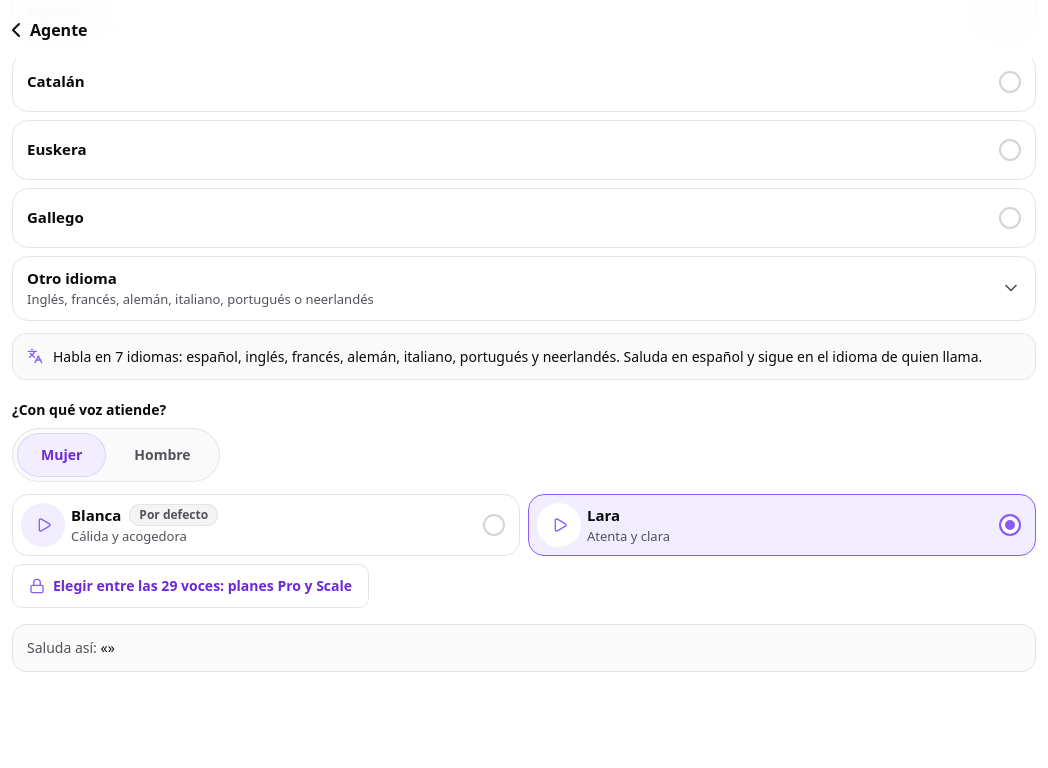
it: ComportamientoMovil — la voz › en Inicio, la voz que ya tenía elegida se conserva a la vista; cambiarla avisa de que no podrá volver a ella
(page scrolled)
Click the radio button labelled "Blanca Por defecto Cálida y acogedora": (96, 515) x1=71 y1=499 x2=505 y2=551
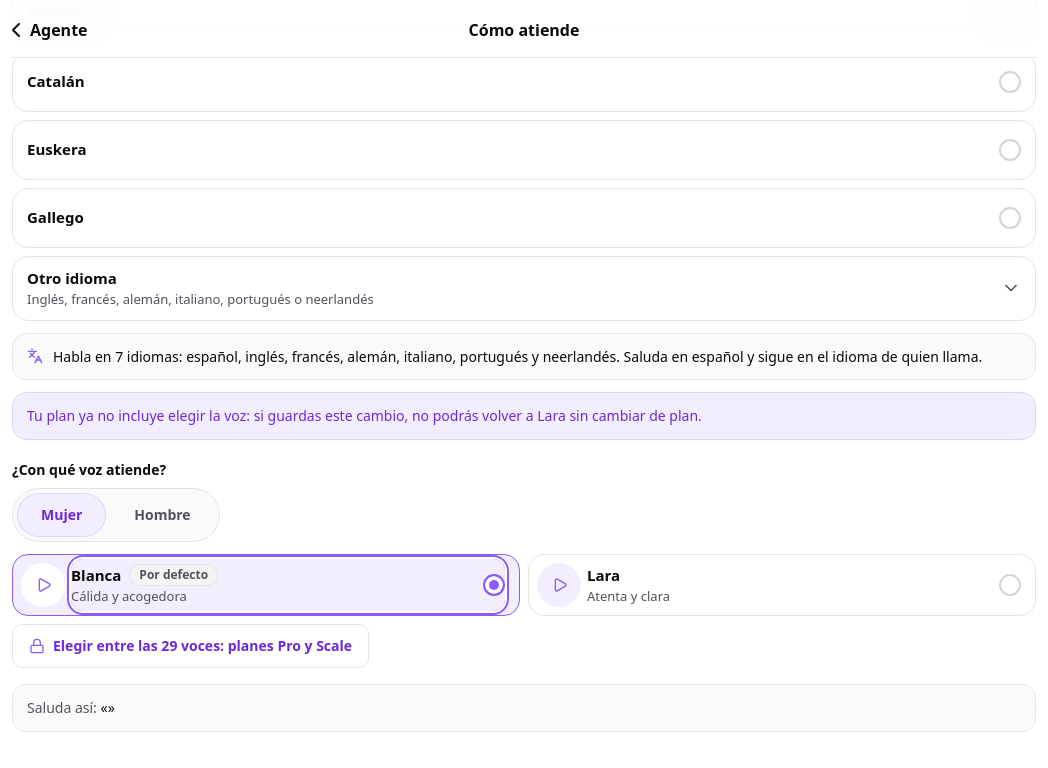
Now the list item "Tu plan ya no incluye elegir la voz: si guardas este cambio, no podrás volver a Lara sin cambiar de plan." is shown, box x1=27 y1=406 x2=702 y2=425
Note: Lara sigue a la vista para volver a ella.
Click the radio button labelled "Lara Atenta y clara": (604, 575) x1=587 y1=559 x2=1021 y2=611
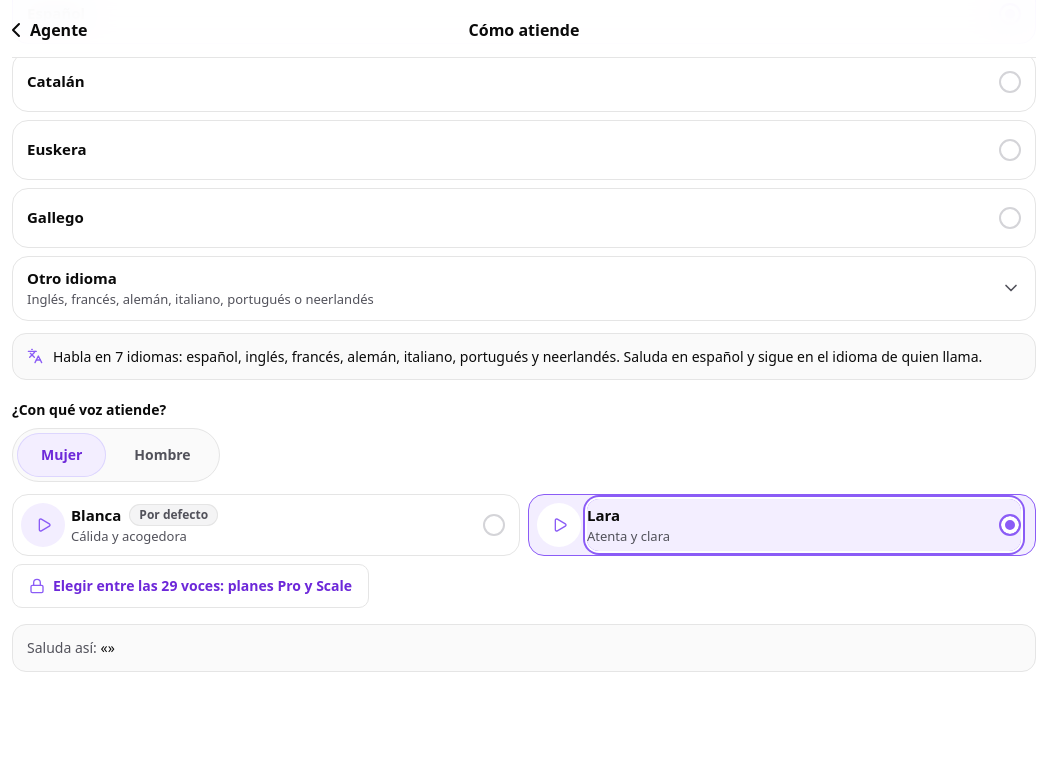
Now the list item "Tu plan ya no incluye elegir la voz: si guardas este cambio, no podrás volver a Lara sin cambiar de plan." is gone
Click the radio button labelled "Hombre": (162, 455) x1=110 y1=433 x2=215 y2=477
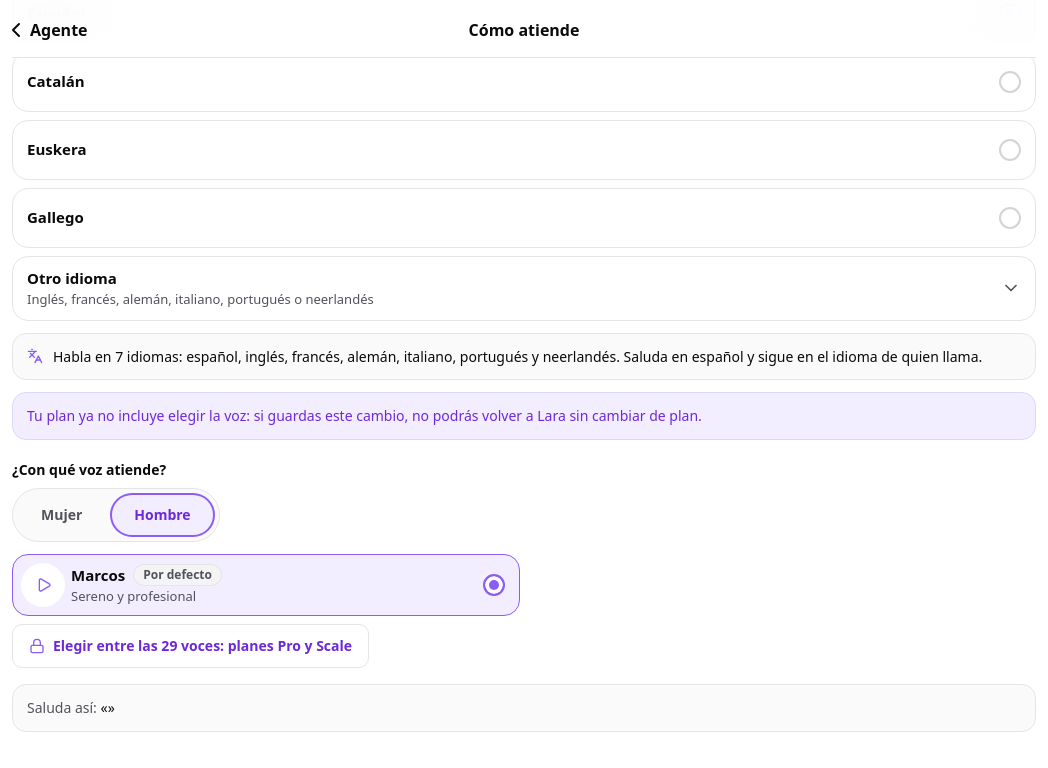
Now the list item "Tu plan ya no incluye elegir la voz: si guardas este cambio, no podrás volver a Lara sin cambiar de plan." is shown, box x1=27 y1=406 x2=702 y2=425
Click the radio button labelled "Mujer": (62, 515) x1=17 y1=493 x2=106 y2=537
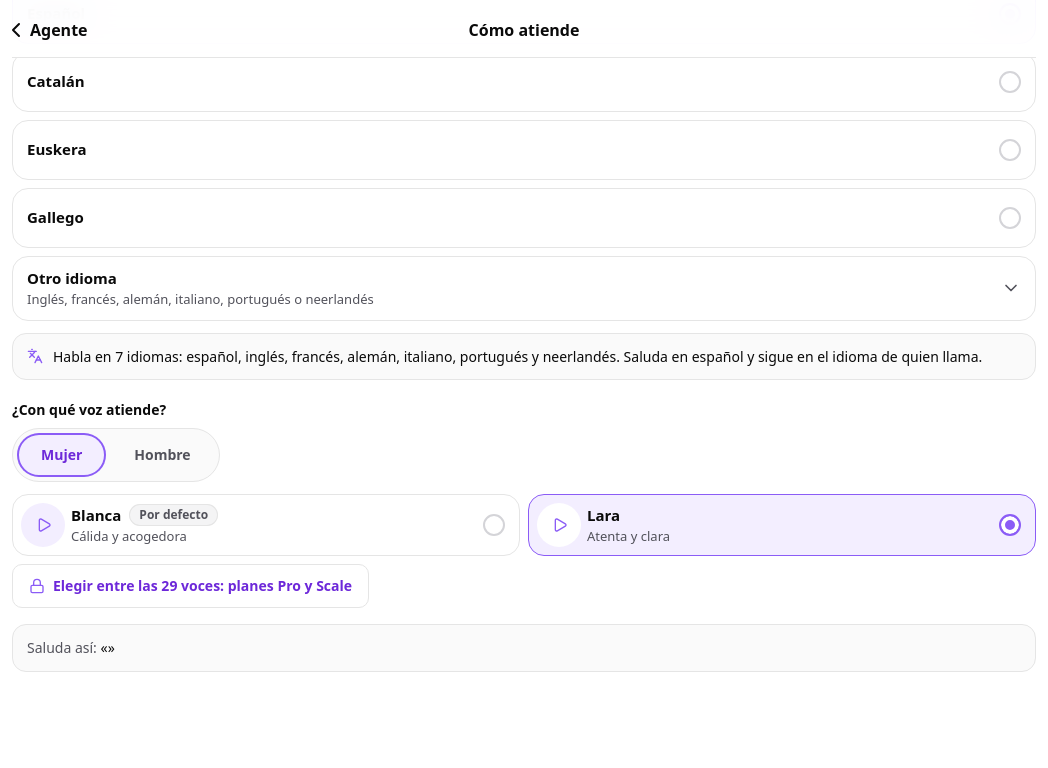
Now the list item "Tu plan ya no incluye elegir la voz: si guardas este cambio, no podrás volver a Lara sin cambiar de plan." is gone
